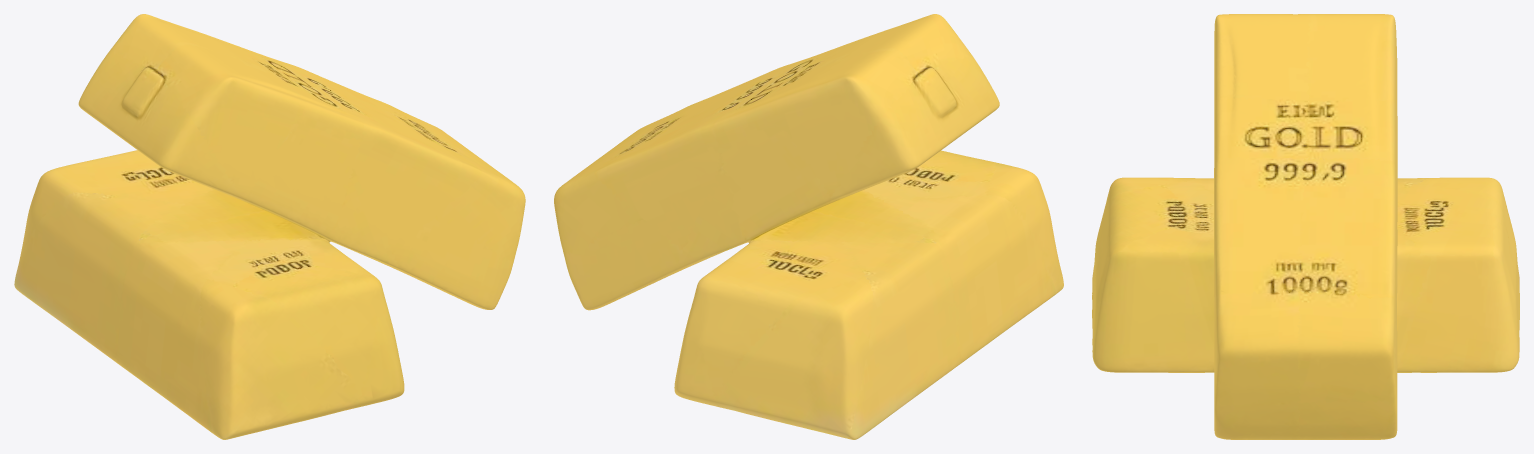
Rendered from accounts-symbol-lite.glb.
3 views of the same model, side by side, from view 1: azimuth 30°, elevation 25°; view 2: azimuth 150°, elevation 25°; view 3: azimuth 270°, elevation 25° (orthographic).
Parts seen in each view (by area): view 1: mesh_node; view 2: mesh_node; view 3: mesh_node.
Part boxes in pixels (x1,y1,x2,y2): mesh_node: (14, 14, 525, 439); mesh_node: (554, 14, 1063, 439); mesh_node: (1092, 14, 1519, 439).
Bounding box in the file's own units: 1.87 × 1.48 × 1.9.
1 material, 1 textured.
